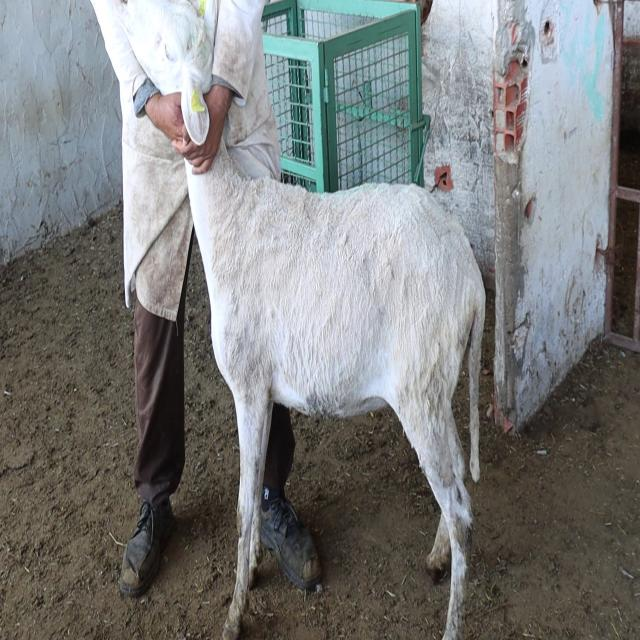Score_3: (188, 158, 485, 639)
